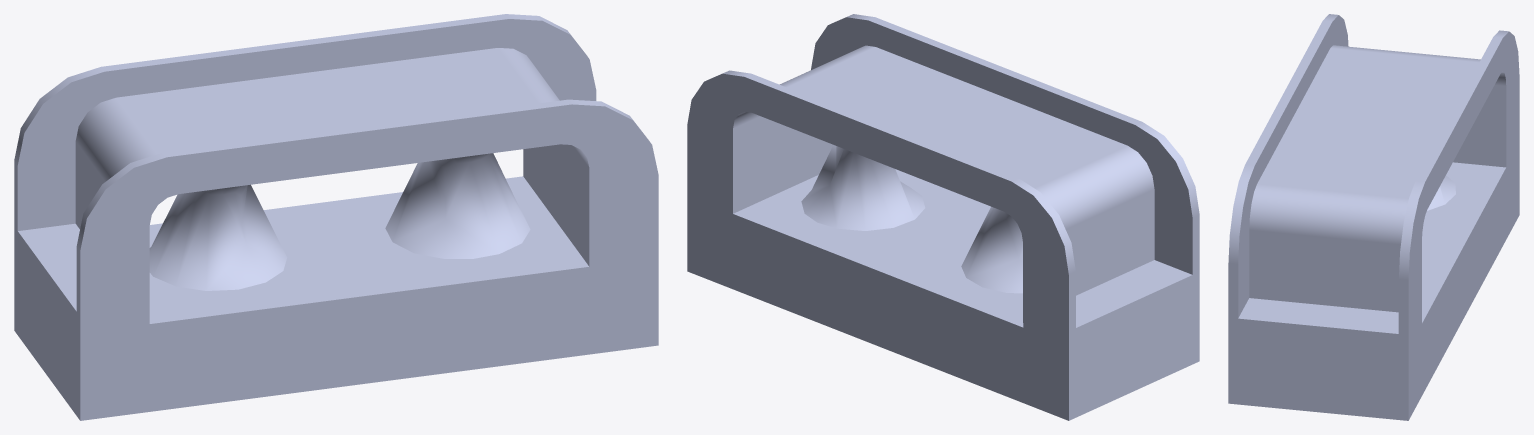
3 views of the same model, side by side, from view 1: azimuth 30°, elevation 25°; view 2: azimuth 150°, elevation 25°; view 3: azimuth 270°, elevation 25° (orthographic). The views are drawn at different scales.
Parts seen in each view (by area): view 1: NAUO56, NAUO59, NAUO58; view 2: NAUO56, NAUO57, NAUO58; view 3: NAUO56, NAUO60, NAUO57.
Part boxes in pixels (x1=…): NAUO56: x1=14, y1=14, x2=658, y2=338; NAUO59: x1=86, y1=264, x2=652, y2=420; NAUO58: x1=14, y1=249, x2=85, y2=420; NAUO56: x1=687, y1=14, x2=1199, y2=349; NAUO57: x1=691, y1=202, x2=1064, y2=419; NAUO58: x1=1065, y1=291, x2=1199, y2=420; NAUO56: x1=1228, y1=14, x2=1519, y2=352; NAUO60: x1=1228, y1=335, x2=1409, y2=420; NAUO57: x1=1409, y1=150, x2=1518, y2=418.
Size of the model in its own units: 1.06 by 0.46 by 0.583.
